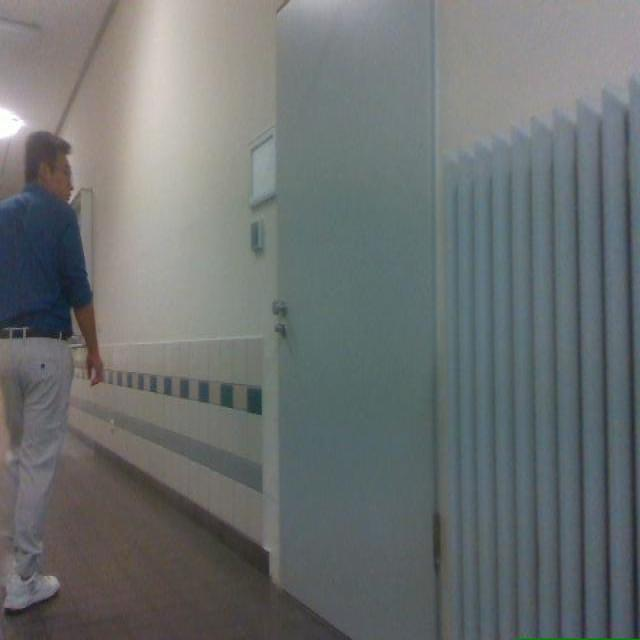humans: (0, 132, 102, 610)
